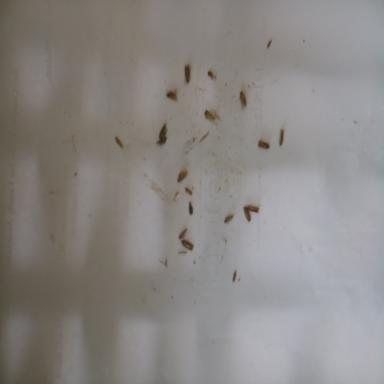pbw: (257, 139, 270, 149), (184, 63, 190, 82), (243, 205, 250, 221), (182, 239, 194, 247), (240, 90, 246, 105), (248, 204, 259, 210)
